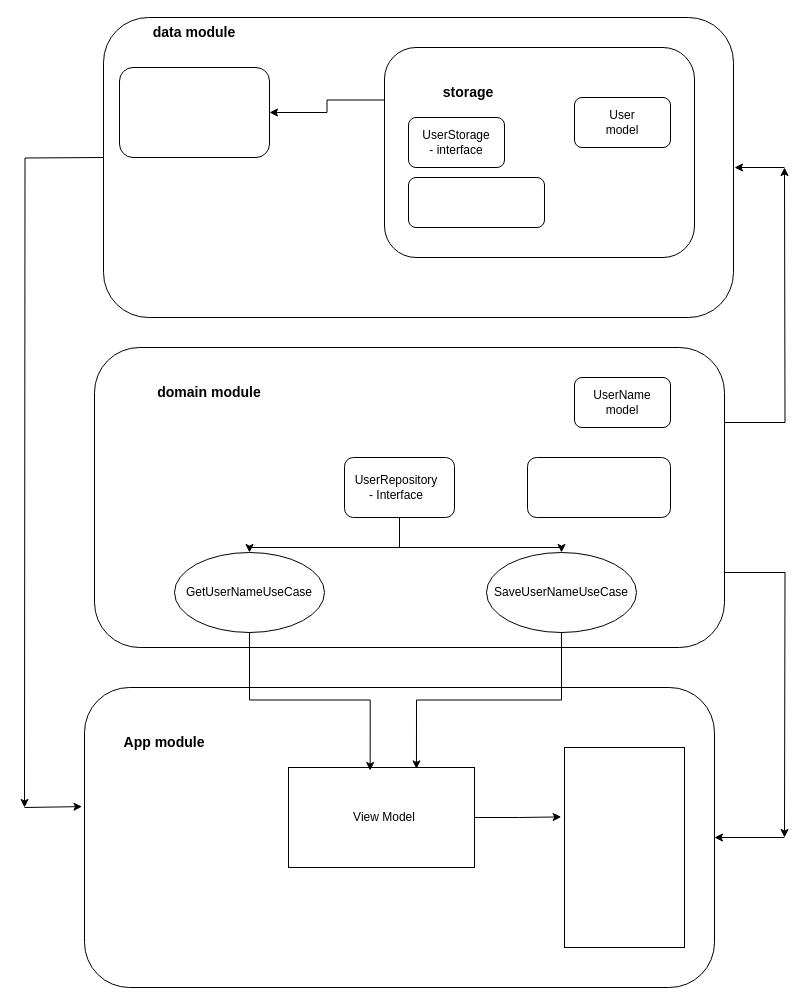
The diagram is 811 pixels wide and 1005 high, and some of its shapes have lost their labels. Here are the shapes that lost their labels. From the top down, the centre of each, then its label:
(x=194, y=112): UserRepositoryImpl - Implimentation
(x=476, y=202): SharedPrefsUserStorage - Implimentation
(x=598, y=487): SaveUserNameParam model
(x=624, y=847): Activity
